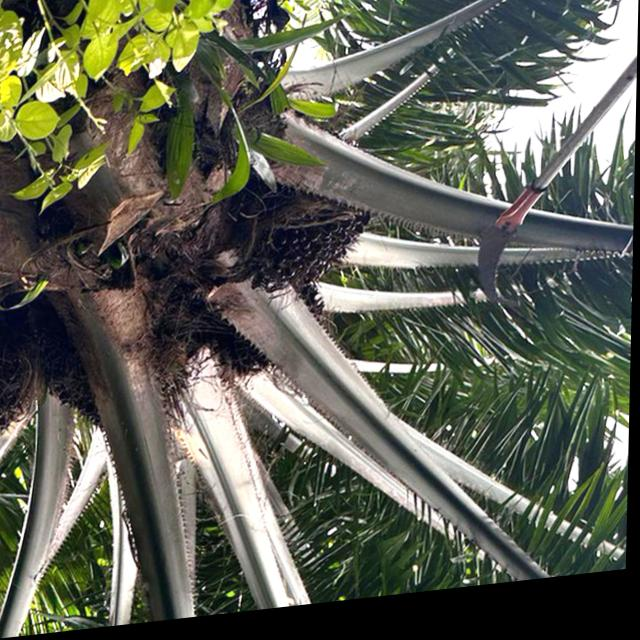unripe: (210, 183, 377, 309), (47, 312, 177, 449), (0, 318, 45, 450)
